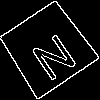N: (23, 24, 80, 83)
